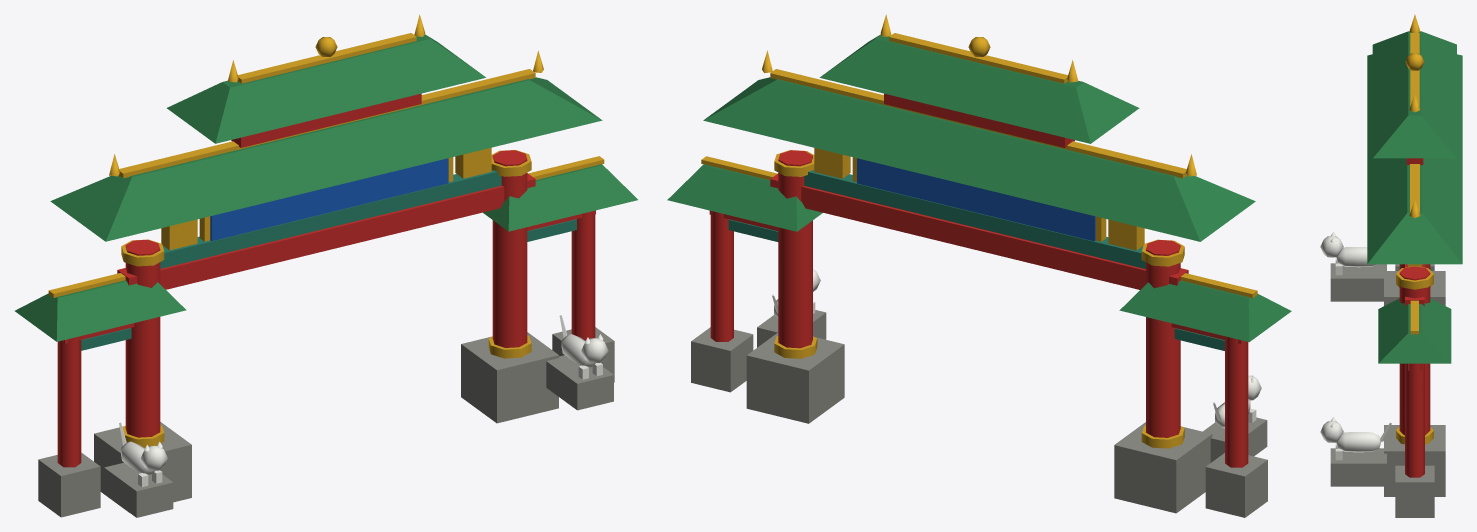
Rendered from lawang_suryakencana.glb.
The picture shows the model from 3 angles, left to right: view 1: azimuth 30°, elevation 25°; view 2: azimuth 150°, elevation 25°; view 3: azimuth 270°, elevation 25°; orthographic projection. The views are drawn at different scales.
Parts seen in each view (by area): view 1: body; view 2: body; view 3: body.
Part boxes in pixels (<box>): body: <box>15,14,637,517</box>; body: <box>667,14,1291,517</box>; body: <box>1320,14,1462,517</box>.
Size of the model in its own units: 20.6 by 13.9 by 5.07.
1 material, 1 textured.
